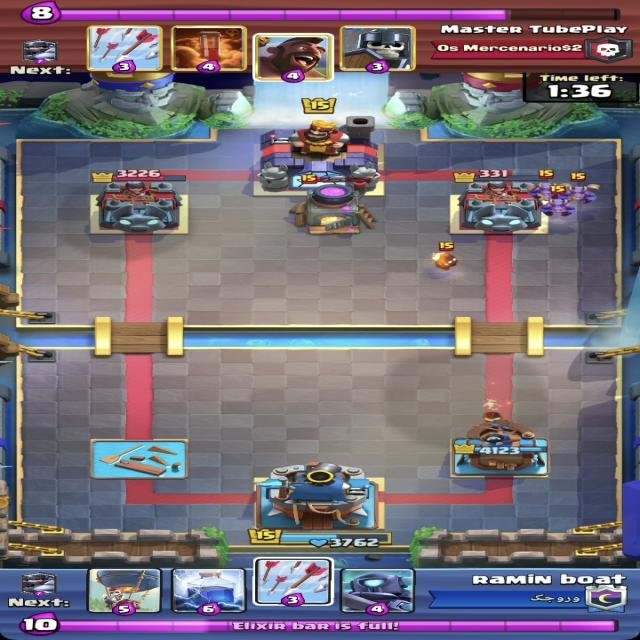Enemy-FireSpirit: (430, 242, 460, 270)
Enemy-Furnace: (289, 174, 379, 235)
Enemy-Minion: (554, 173, 602, 205), (539, 185, 577, 217), (527, 169, 566, 200)
